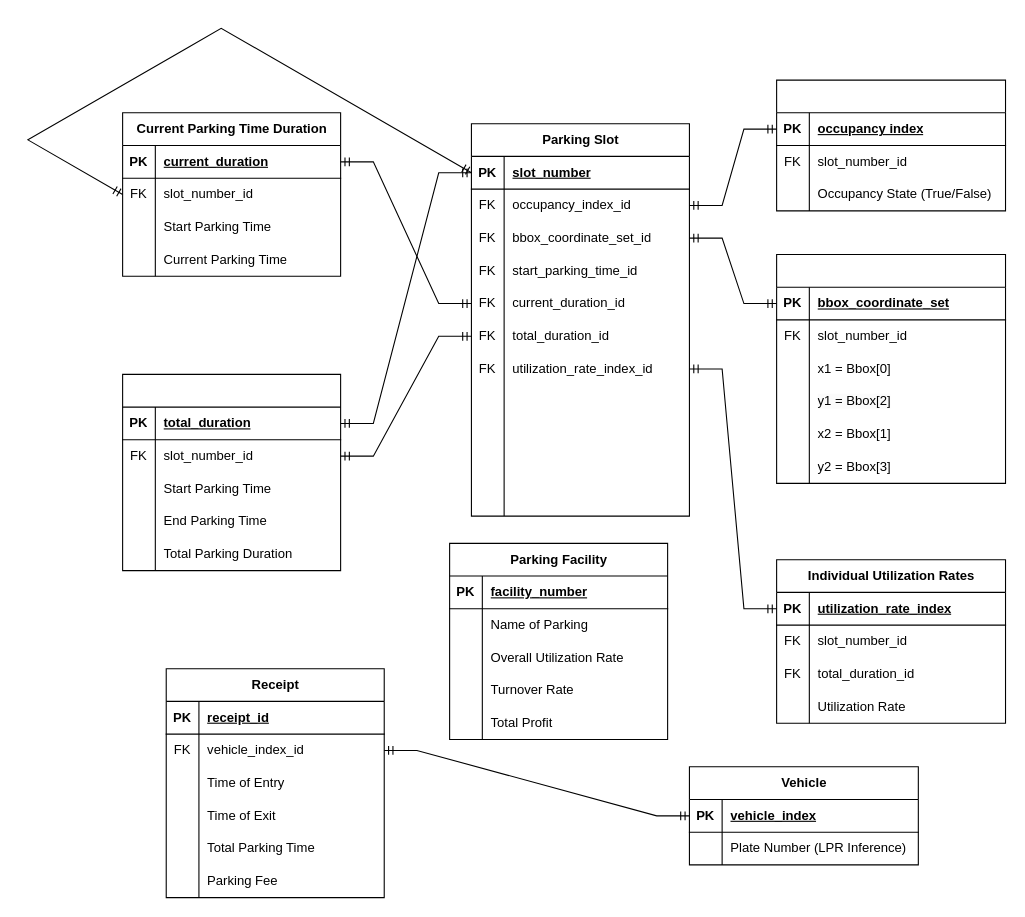
Image size: 1025x917. Some labels were removed from this diagram. The shapes that lost their labels are listed below. From the top down, each one's box as (x1, y1, x2, y2) in pixels, then its label:
(776, 79, 1006, 211): Parking Occupancy
(776, 253, 1006, 483): Bbox Prediction Coordinates
(122, 373, 341, 571): Total Parking Time Duration
